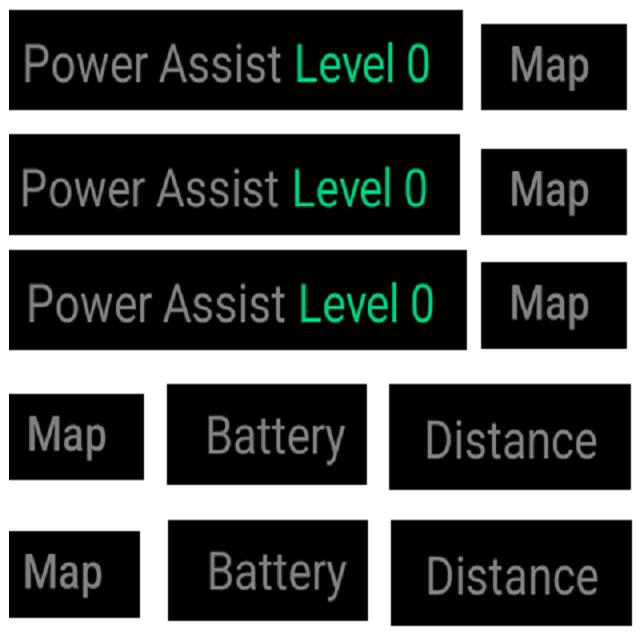0: (428, 420, 452, 460), (429, 555, 453, 594), (406, 166, 428, 208), (413, 281, 434, 323), (409, 41, 430, 82)
8: (203, 545, 230, 592), (208, 412, 231, 456)
A: (158, 43, 186, 87), (165, 283, 188, 325), (158, 168, 182, 208)
L: (288, 40, 322, 90), (288, 282, 318, 326), (289, 165, 312, 211)
M: (20, 408, 66, 456), (503, 159, 544, 211), (502, 42, 546, 86), (18, 546, 56, 594), (508, 275, 542, 324)
P: (19, 276, 53, 328), (22, 35, 50, 88), (16, 159, 40, 211)
